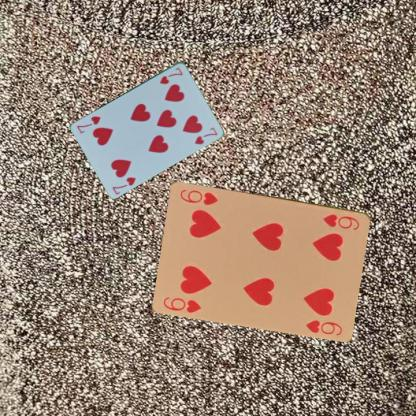6h: (161, 294, 203, 314), (320, 211, 361, 231)
7h: (157, 64, 184, 86), (110, 174, 137, 195)
